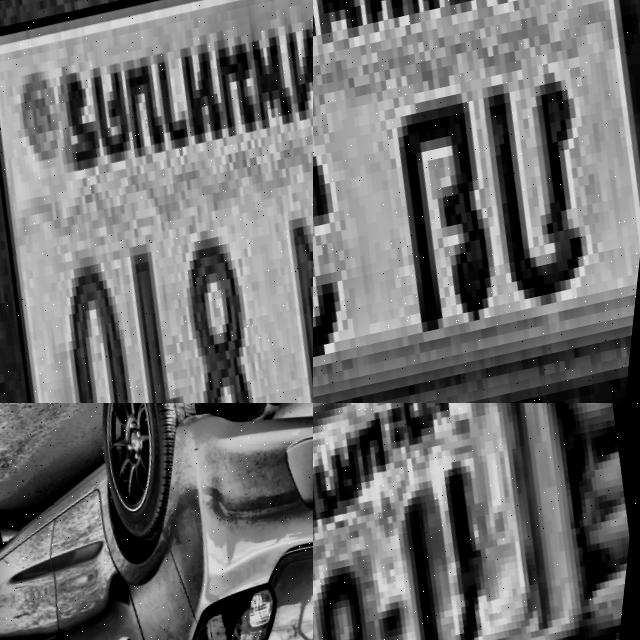license-plate: (313, 0, 640, 403), (0, 0, 313, 403), (313, 403, 591, 640)
